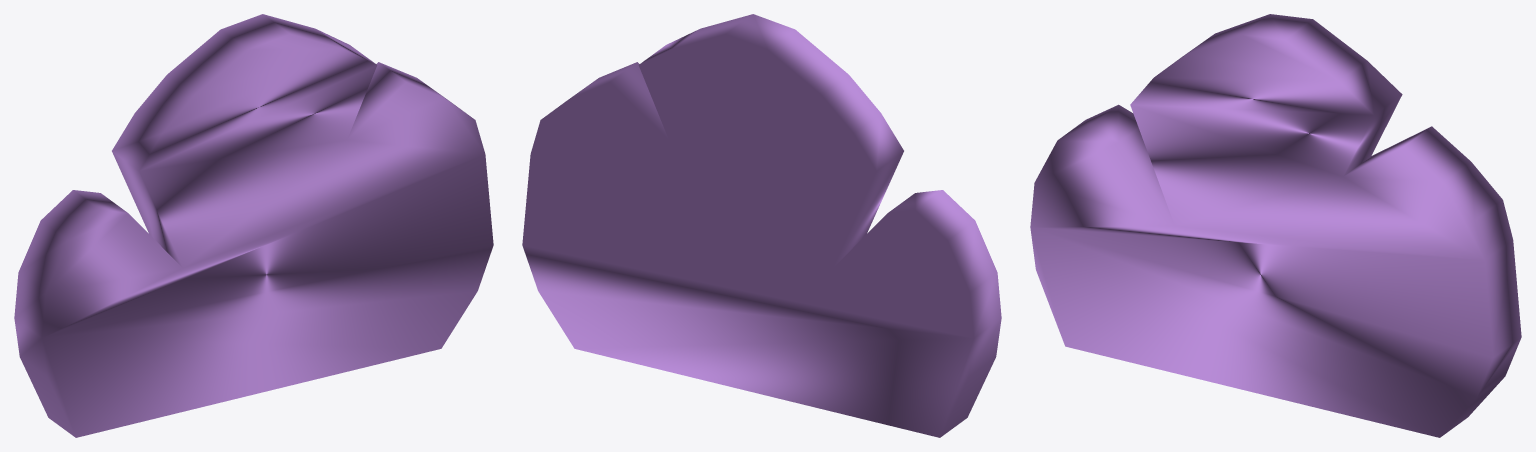
File: BrainPlantBPurple_0.glb
The picture shows the model from 3 angles, left to right: view 1: azimuth 30°, elevation 25°; view 2: azimuth 150°, elevation 25°; view 3: azimuth 330°, elevation 25°; orthographic projection. The views are drawn at different scales.
Parts seen in each view (by area): view 1: BrainPlantBPurple; view 2: BrainPlantBPurple; view 3: BrainPlantBPurple.
Boxes of the visible parts, left/top/right/bottom form: BrainPlantBPurple: left=14, top=14, right=493, bottom=437; BrainPlantBPurple: left=522, top=14, right=1001, bottom=437; BrainPlantBPurple: left=1030, top=14, right=1521, bottom=437.
Size of the model in its own units: 0.4937 by 0.3671 by 0.0522.
